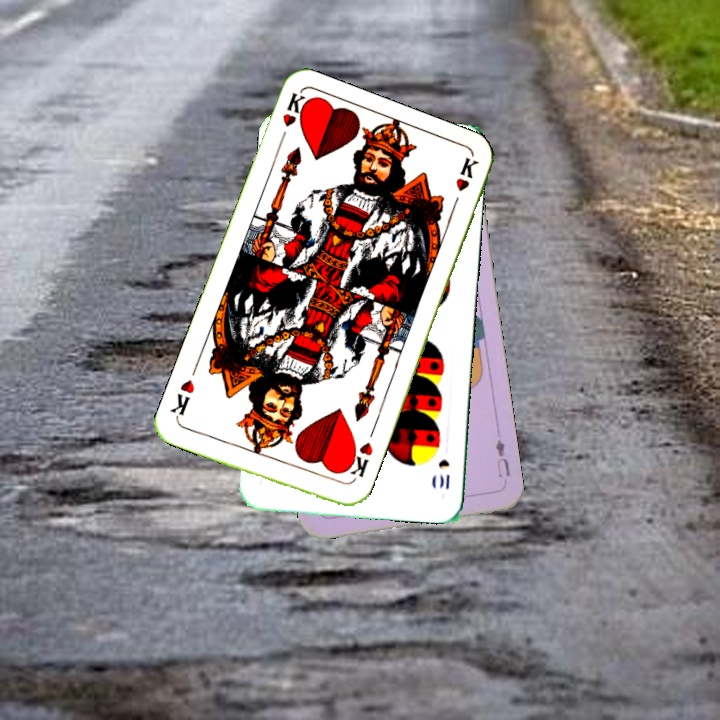EU: (491, 435, 513, 481)
HK: (274, 89, 312, 148), (340, 438, 376, 486)
S10: (435, 455, 452, 492)
